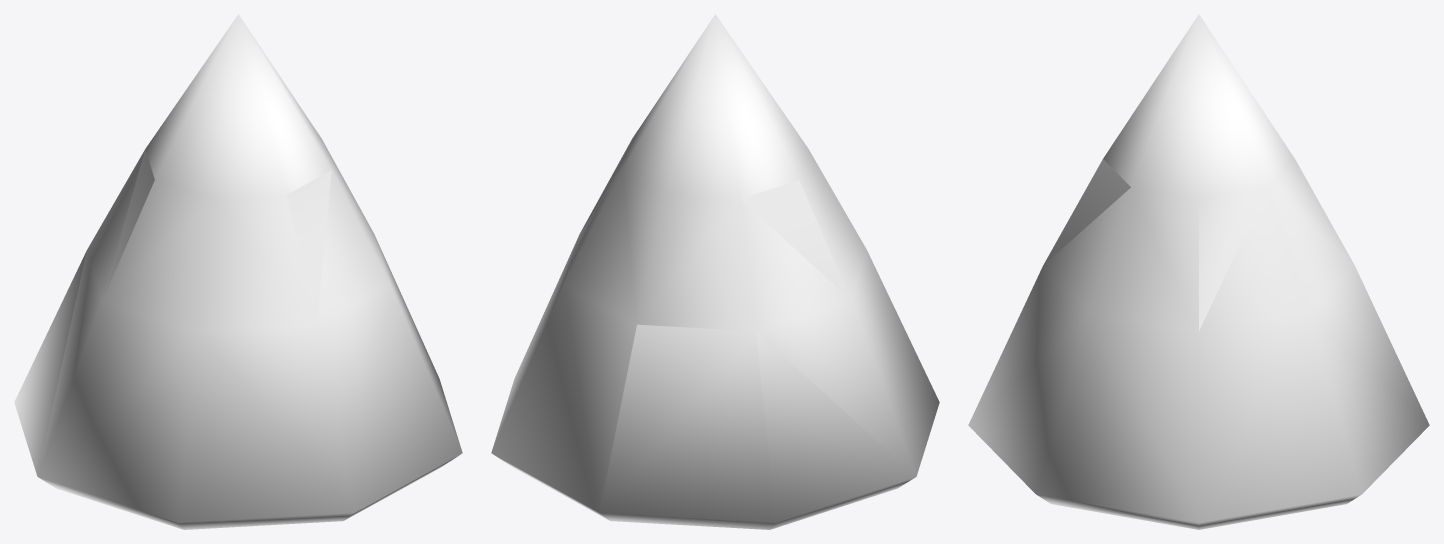
File: Spike_Puff.FBX
3 views of the same model, side by side, from view 1: azimuth 30°, elevation 25°; view 2: azimuth 150°, elevation 25°; view 3: azimuth 270°, elevation 25° (orthographic).
Visible parts, largest first — view 1: SmokeSpike_Mesh; view 2: SmokeSpike_Mesh; view 3: SmokeSpike_Mesh.
Boxes of the visible parts, <box> form: SmokeSpike_Mesh: <box>14,14,462,529</box>; SmokeSpike_Mesh: <box>491,14,939,529</box>; SmokeSpike_Mesh: <box>968,14,1429,529</box>.
Bounding box in the file's own units: 25.1 × 26.49 × 25.1.
Materials: 1 (1 with a texture image).
